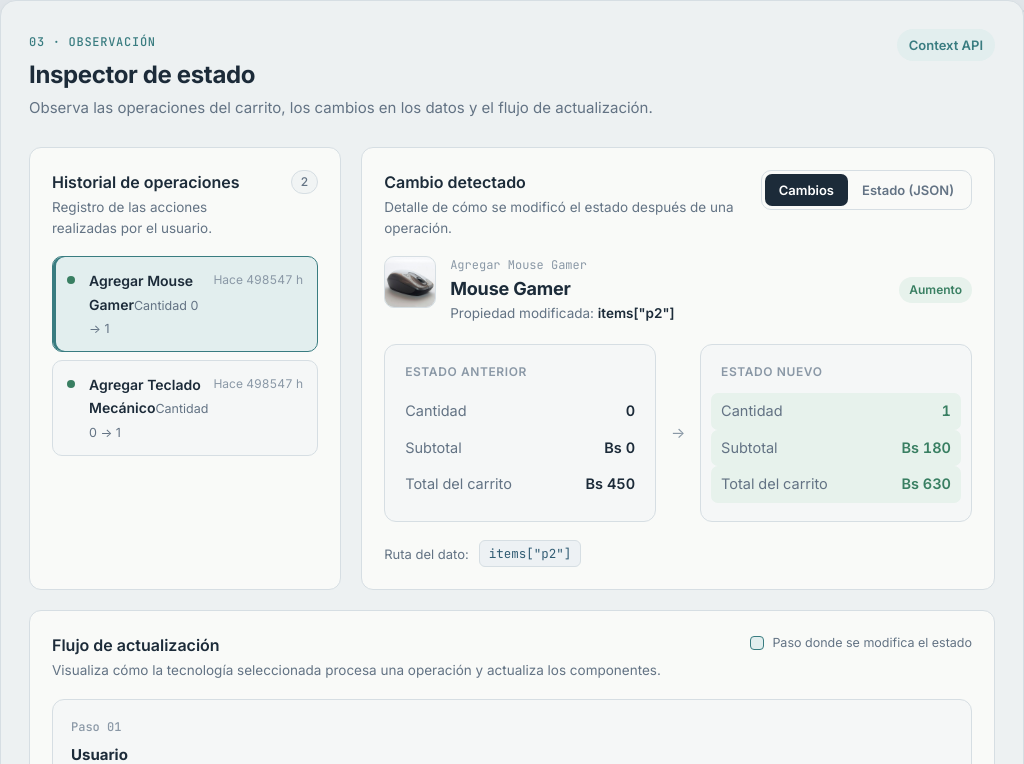
StateInspector › permite observar una operación histórica sin cambiar el estado recibido
Click the button "Agregar Teclado Mecánico" at (185, 408), box x1=52 y1=360 x2=318 y2=456
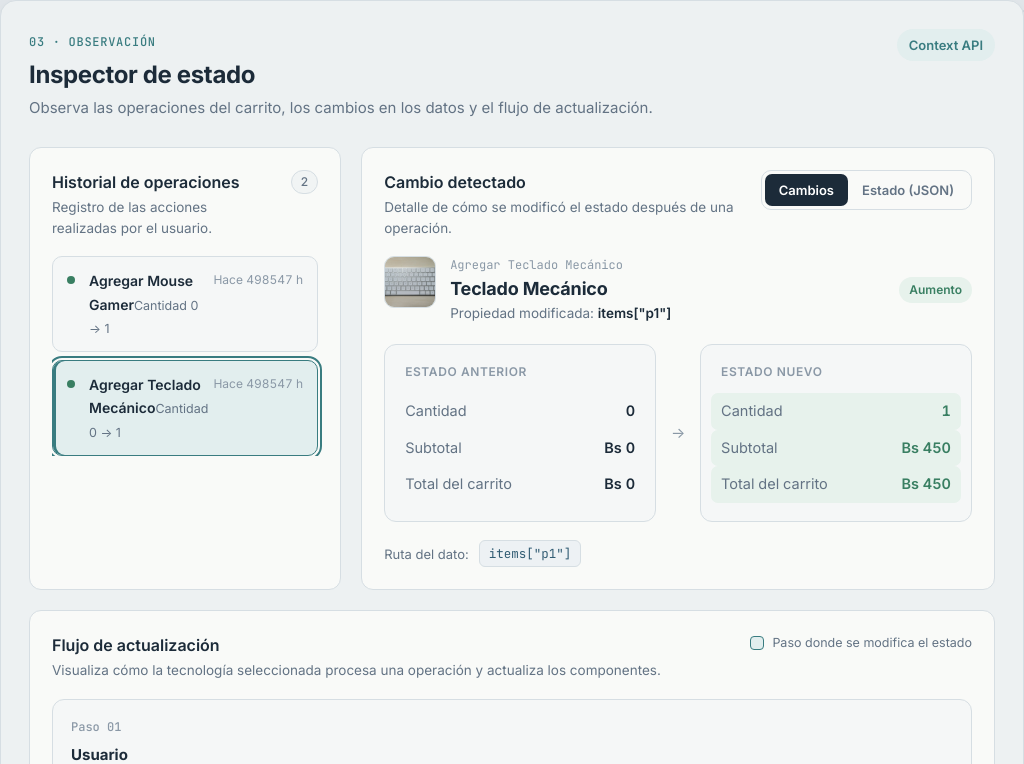
Click the button "Estado (JSON)" at (908, 190), box x1=848 y1=174 x2=968 y2=206
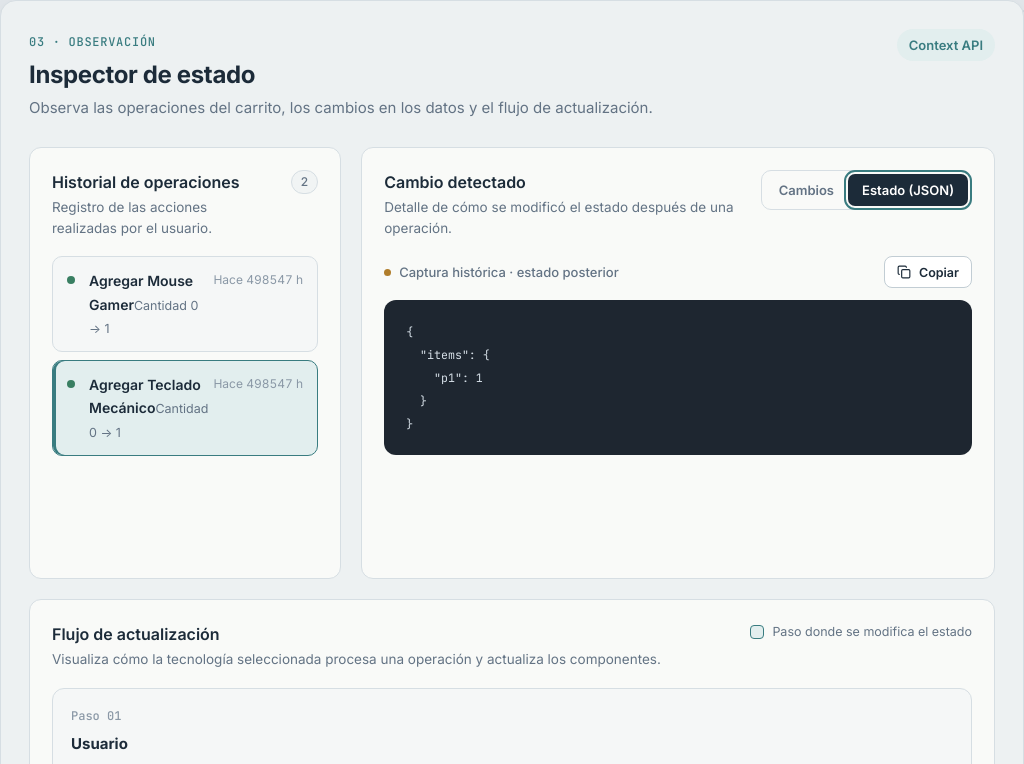
Now the text "{ \"items\": { \"p1\": 1 } }" is shown, box x1=406 y1=324 x2=490 y2=431
